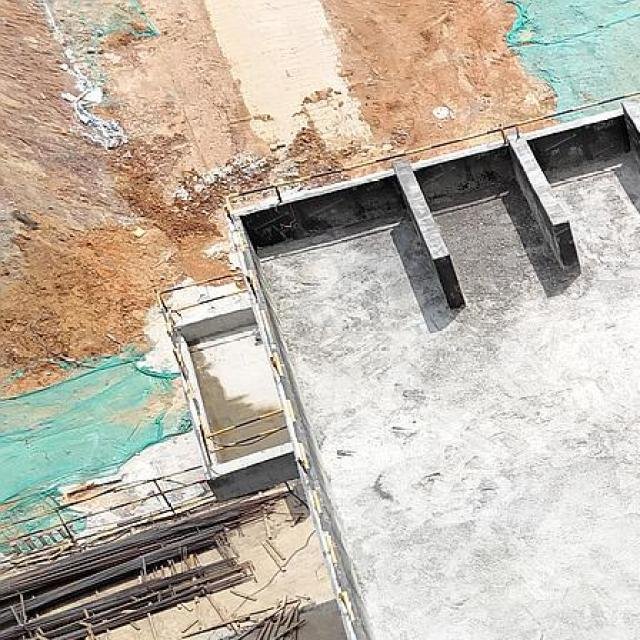edge_guardrail: (220, 90, 640, 640), (154, 269, 289, 465), (0, 463, 216, 564)
